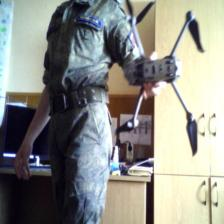drone: (118, 15, 206, 128)
